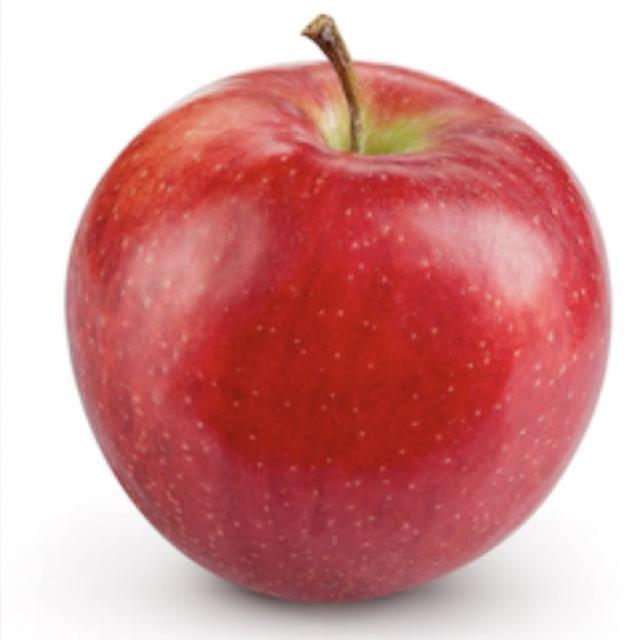Fresh Apple: (94, 68, 588, 605)
